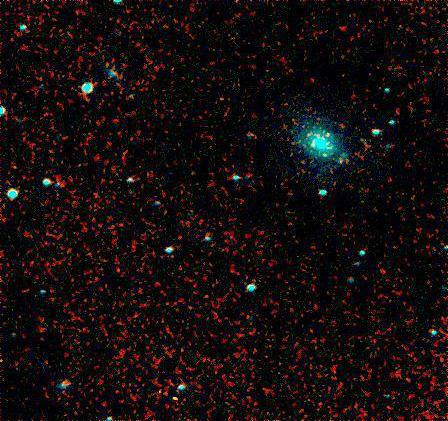star: (311, 121, 341, 151)
